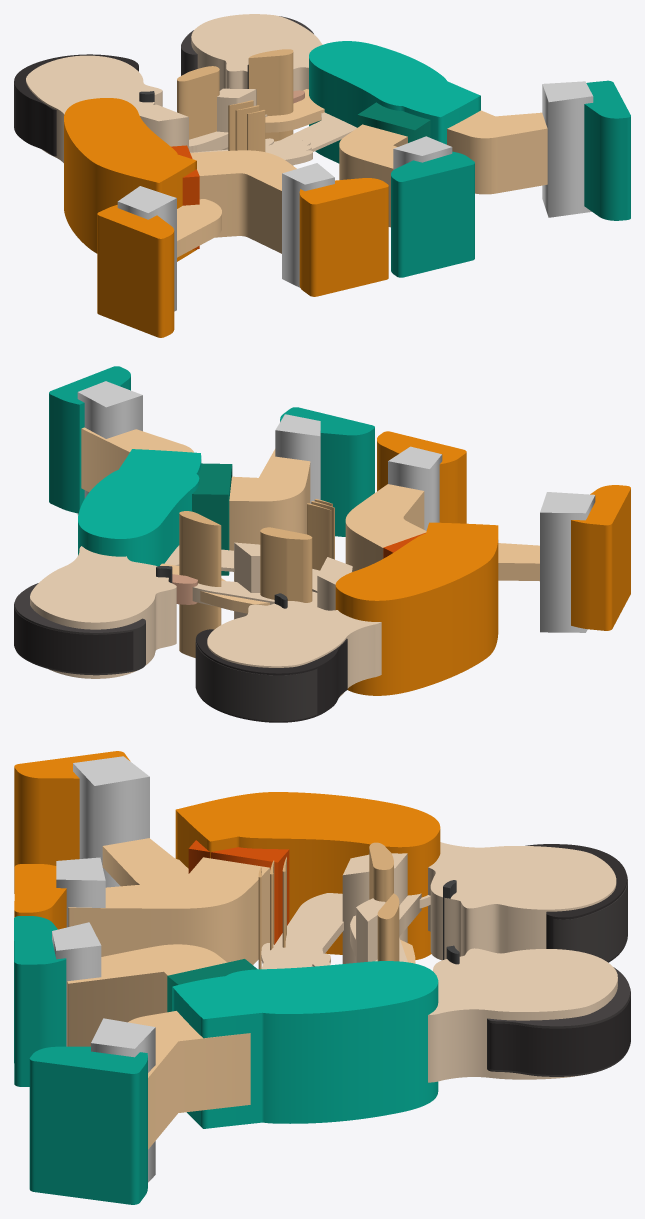
File: emoji_u1f93c_1f3fb_200d_2642.glb
3 views of the same model, one above another, from view 1: azimuth 30°, elevation 25°; view 2: azimuth 150°, elevation 25°; view 3: azimuth 270°, elevation 25° (orthographic). The views are drawn at different scales.
Parts seen in each view (by area): view 1: emoji_u1f93c_1f3fb_200d_2642; view 2: emoji_u1f93c_1f3fb_200d_2642; view 3: emoji_u1f93c_1f3fb_200d_2642.
Part boxes in pixels (x1,y1,x2,y2): emoji_u1f93c_1f3fb_200d_2642: [14, 14, 630, 337]; emoji_u1f93c_1f3fb_200d_2642: [14, 366, 630, 722]; emoji_u1f93c_1f3fb_200d_2642: [14, 751, 630, 1204].
Bounding box in the file's own units: 0.033 × 0.008 × 0.0265.
